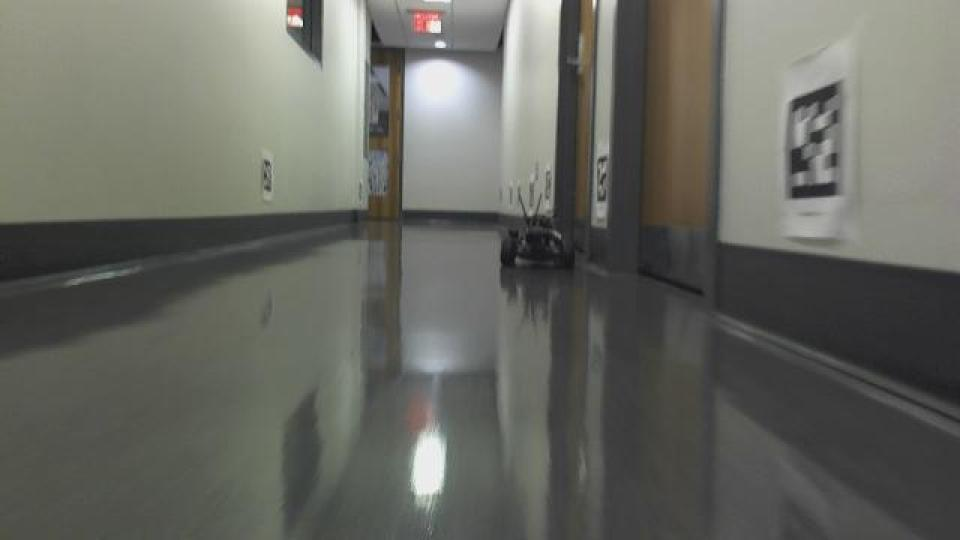car: (495, 187, 583, 274)
